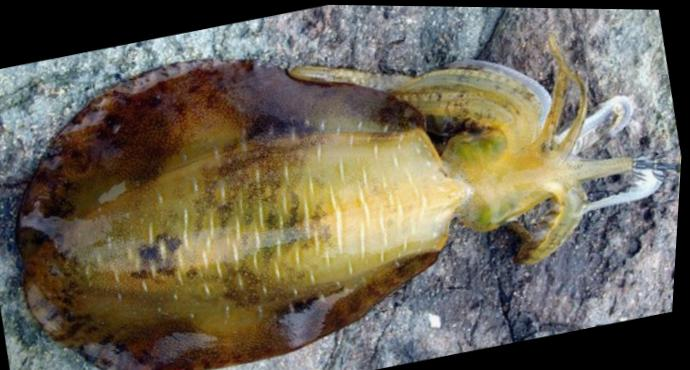Cephalopod: (20, 38, 675, 370)
